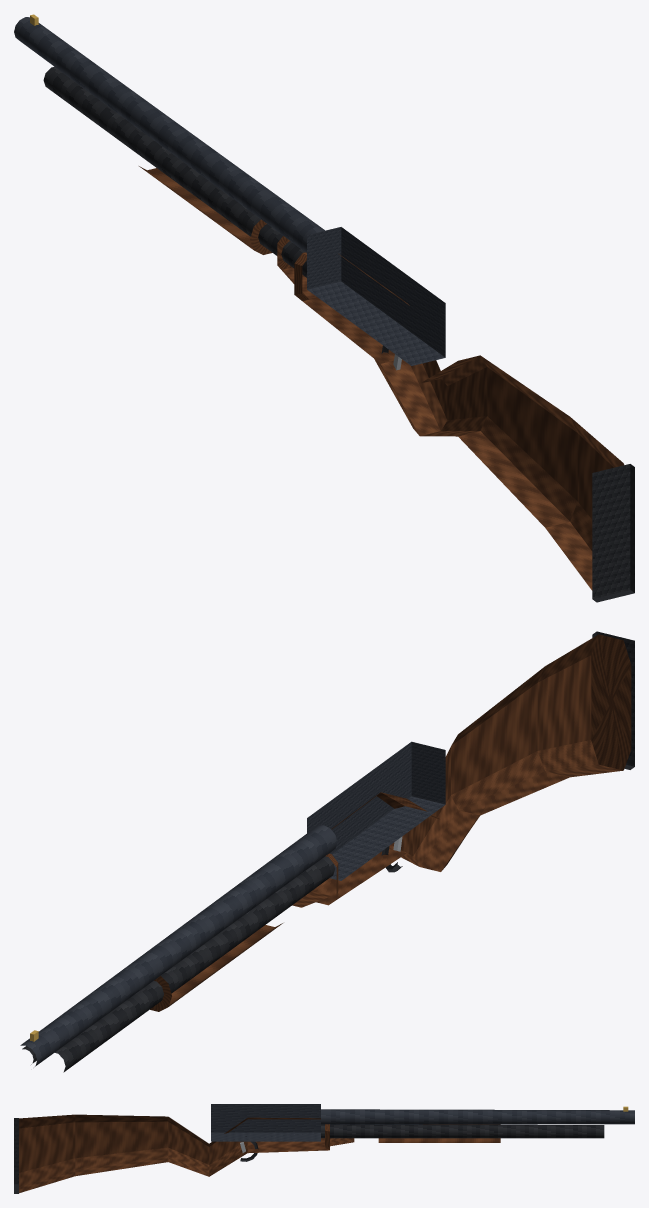
Rendered from winchester_m1897.glb.
3 views of the same model, one above another, from view 1: azimuth 30°, elevation 25°; view 2: azimuth 150°, elevation 25°; view 3: azimuth 270°, elevation 25° (orthographic). The views are drawn at different scales.
Visible parts, largest first — view 1: WeaponMesh; view 2: WeaponMesh; view 3: WeaponMesh.
Boxes of the visible parts, x1,y1,x2,y2 form: WeaponMesh: [14, 14, 634, 602]; WeaponMesh: [20, 631, 634, 1072]; WeaponMesh: [14, 1104, 634, 1193].
Size of the model in its own units: 0.042 by 0.15 by 1.02.
5 materials, 5 textured.
